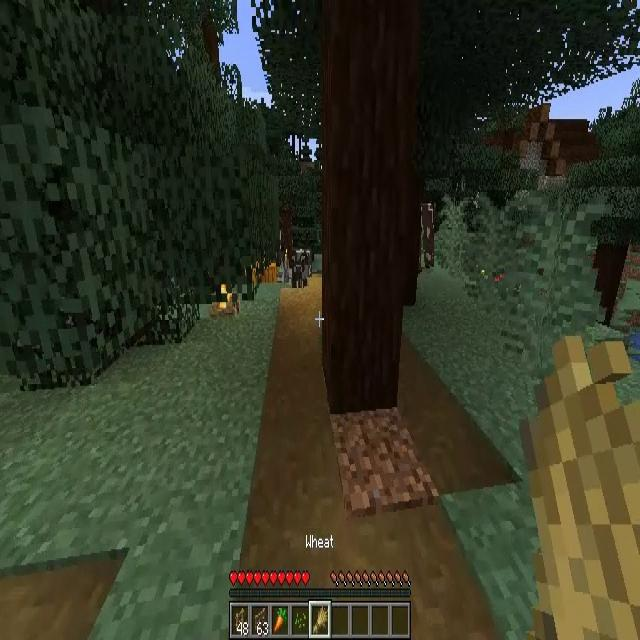cow: (421, 202, 434, 268), (292, 249, 308, 289)
